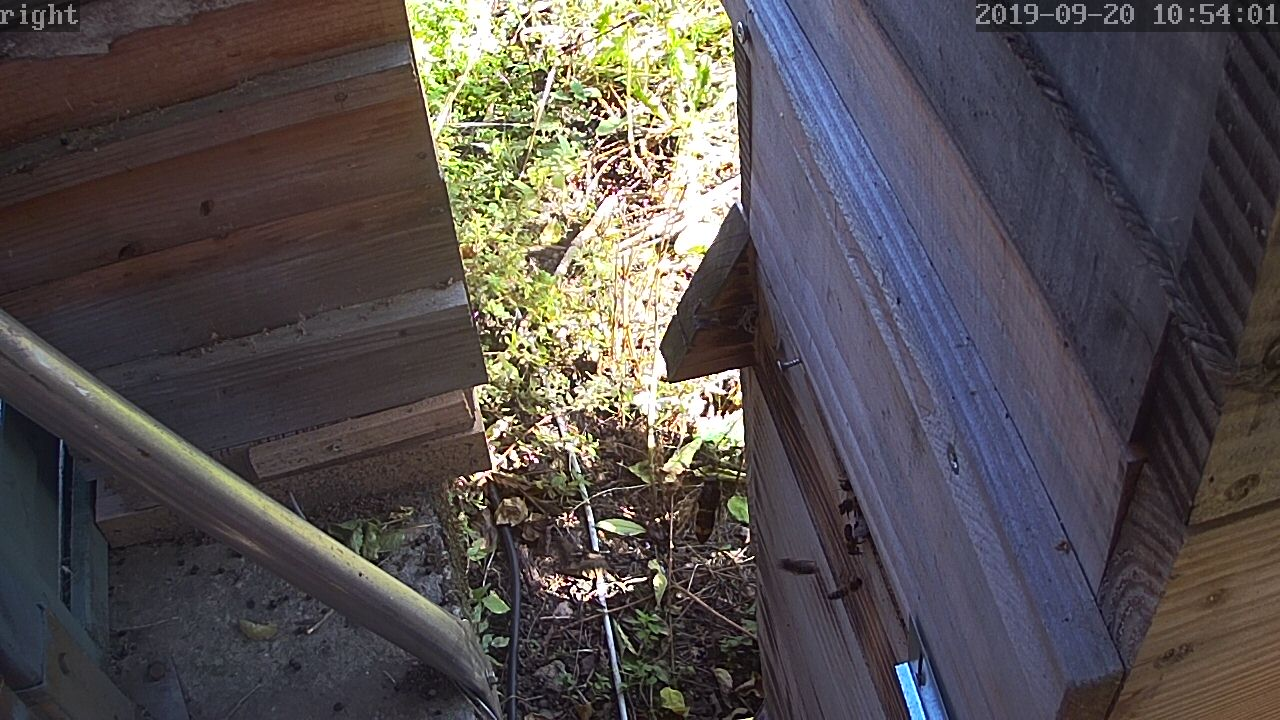bee: (779, 551, 823, 582), (824, 575, 862, 604), (839, 525, 863, 559), (838, 487, 860, 521)
hornet: (691, 472, 731, 545)
